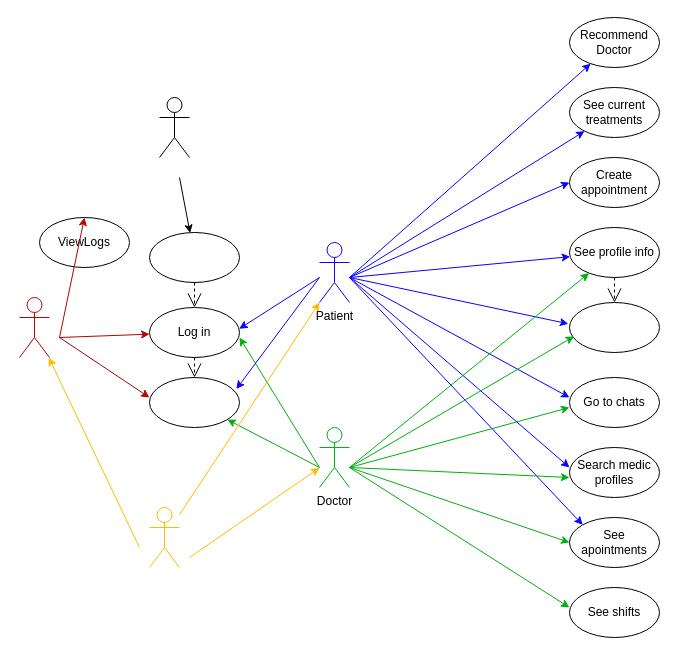
This 677x655 diagram has some shape labels left out. Here are the shapes that lost their labels. From the top down, the box of each, then its label:
(158, 96, 190, 158): New User
(148, 232, 240, 282): Register
(18, 296, 50, 358): Admin
(568, 302, 660, 352): Update profile info
(148, 376, 240, 428): Log out
(148, 506, 180, 568): Actor
